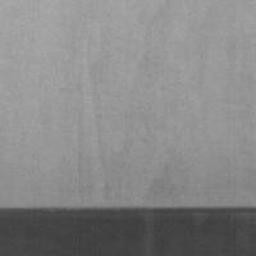Welding line: (0, 206, 256, 214)
